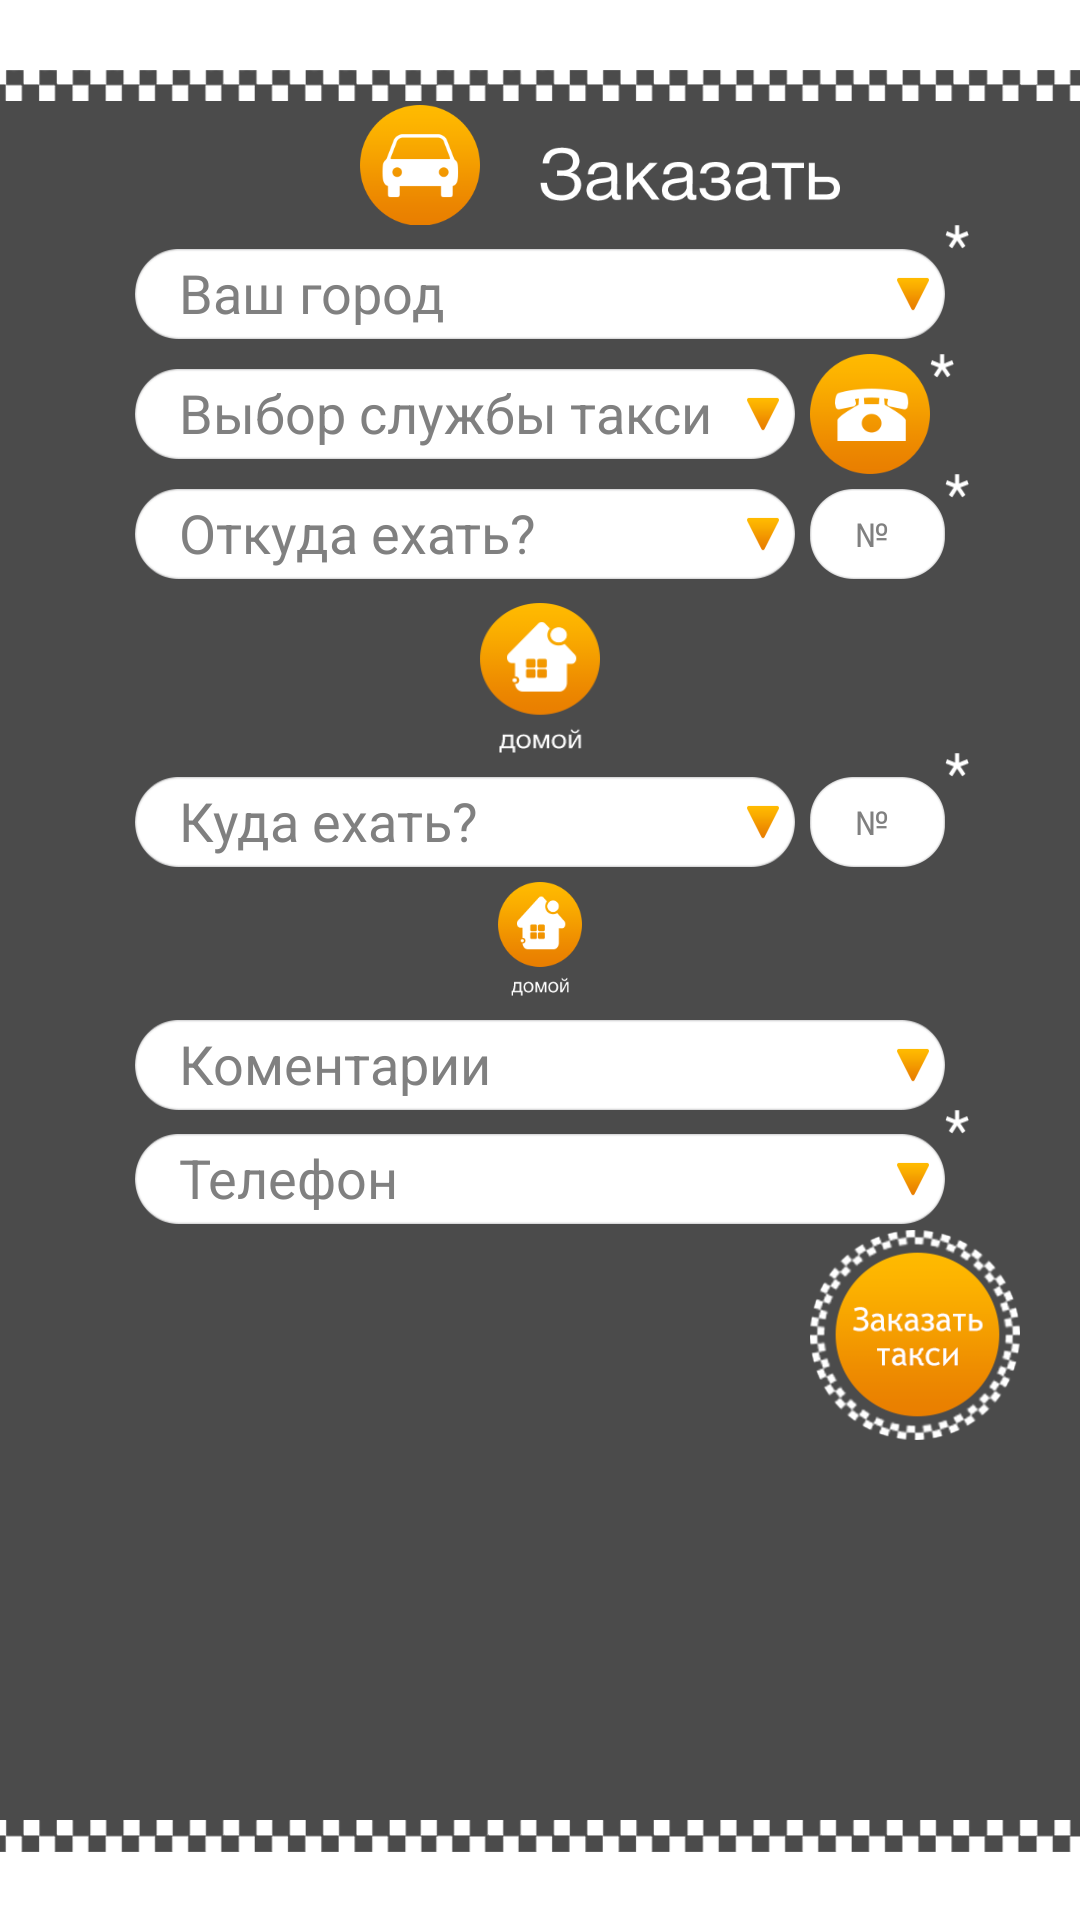

Icon bounding boxes for this 1080 × 1920 phone screenshot, format {"left": x1, "top": y1, "right": x2, "bottom": y2}:
order caption car: {"left": 360, "top": 105, "right": 480, "bottom": 225}
